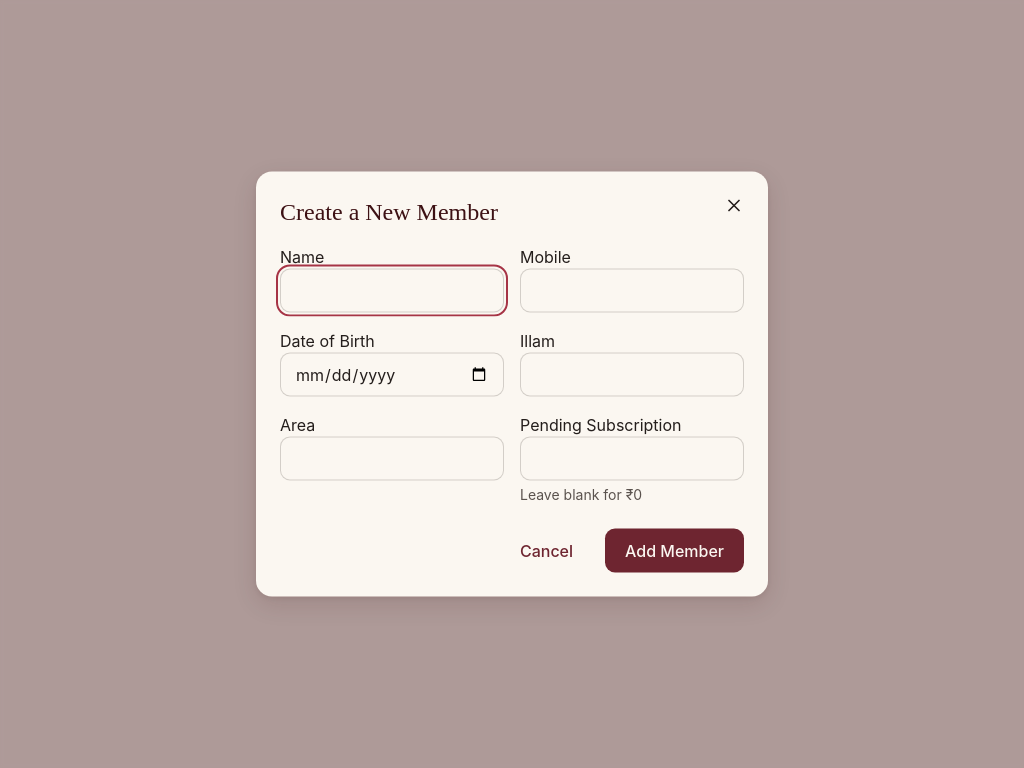
Test case: CreateMemberModal › requires name, mobile, and date of birth
Click the button "Add Member" at (674, 550), box [605, 528, 744, 572]
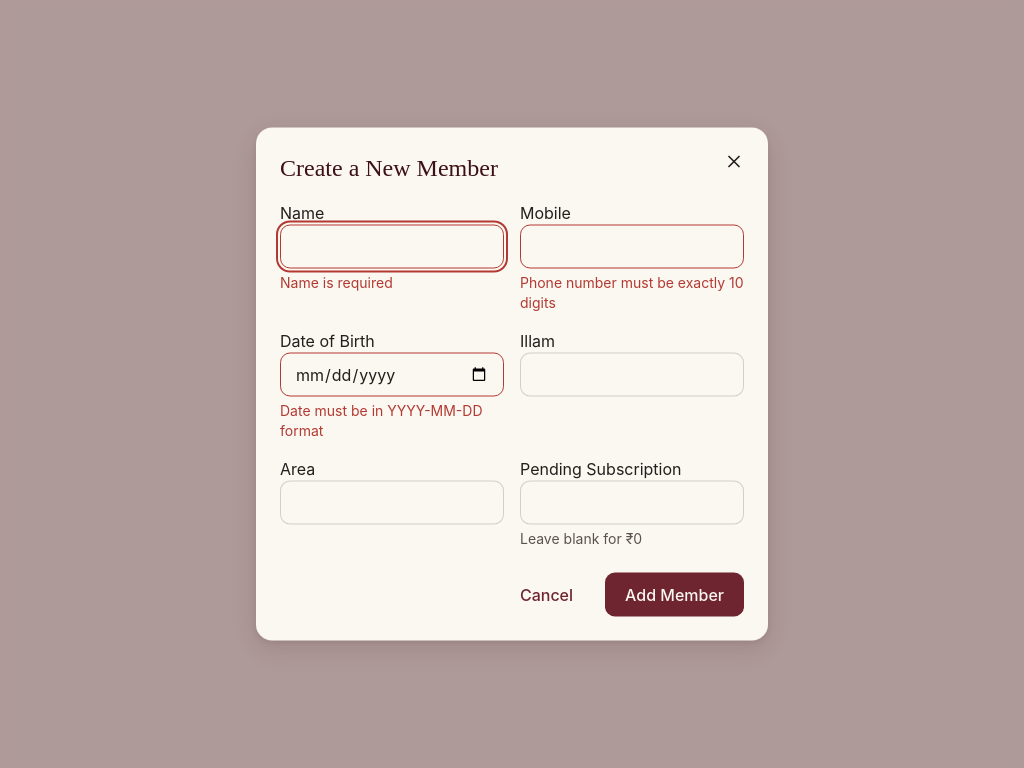
Now the text "Name is required" is shown, box [280, 274, 393, 290]
Now the text "Phone number must be exactly 10 digits" is shown, box [520, 272, 744, 312]
